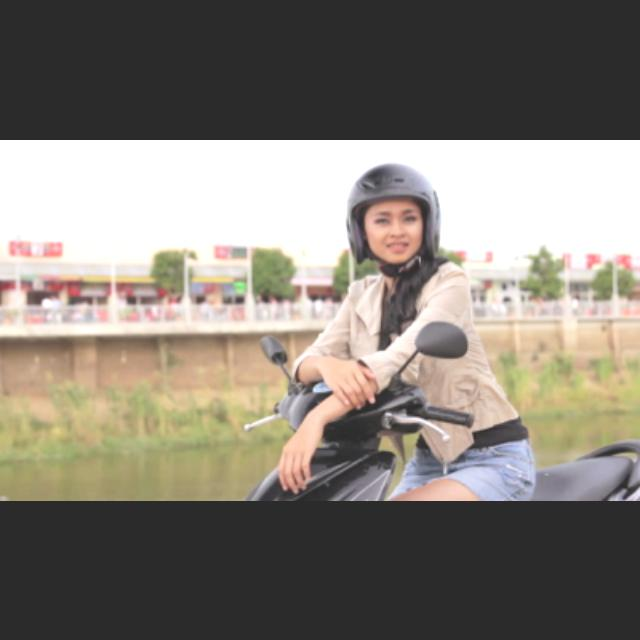With Helmet: (338, 160, 447, 270)
